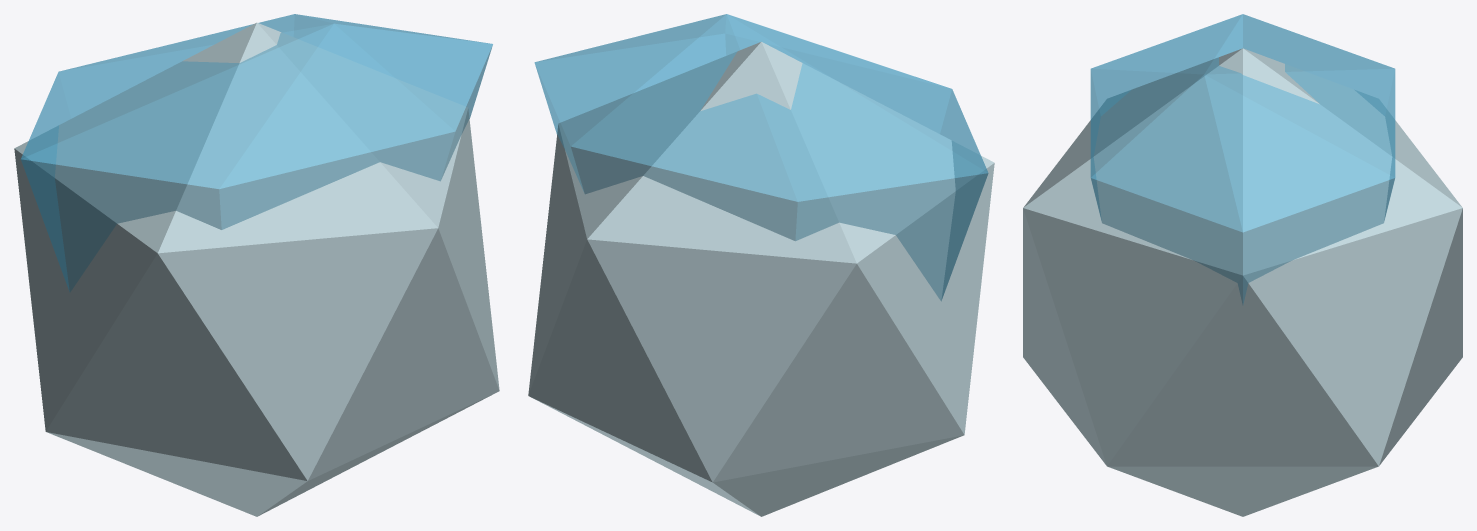
Rendered from crystals.glb.
3 renders of one model, left to right at view 1: azimuth 30°, elevation 25°; view 2: azimuth 150°, elevation 25°; view 3: azimuth 270°, elevation 25°, orthographic. The views are drawn at different scales.
Parts seen in each view (by area): view 1: FrostGrain, FrostShard; view 2: FrostGrain, FrostShard; view 3: FrostGrain, FrostShard.
Boxes of the visible parts, <box> form: FrostGrain: <box>14,22,499,516</box>; FrostShard: <box>20,14,492,292</box>; FrostGrain: <box>528,41,994,516</box>; FrostShard: <box>534,14,988,301</box>; FrostGrain: <box>1023,48,1462,516</box>; FrostShard: <box>1090,14,1395,304</box>.
Bounding box in the file's own units: 2 × 2 × 1.7.
